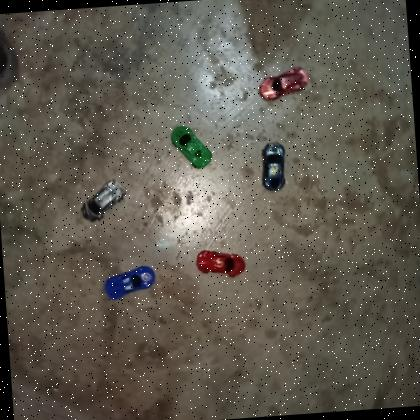Car: (77, 178, 129, 224), (169, 124, 215, 172), (102, 265, 158, 302), (257, 65, 310, 103), (196, 247, 248, 281), (258, 140, 288, 192)
